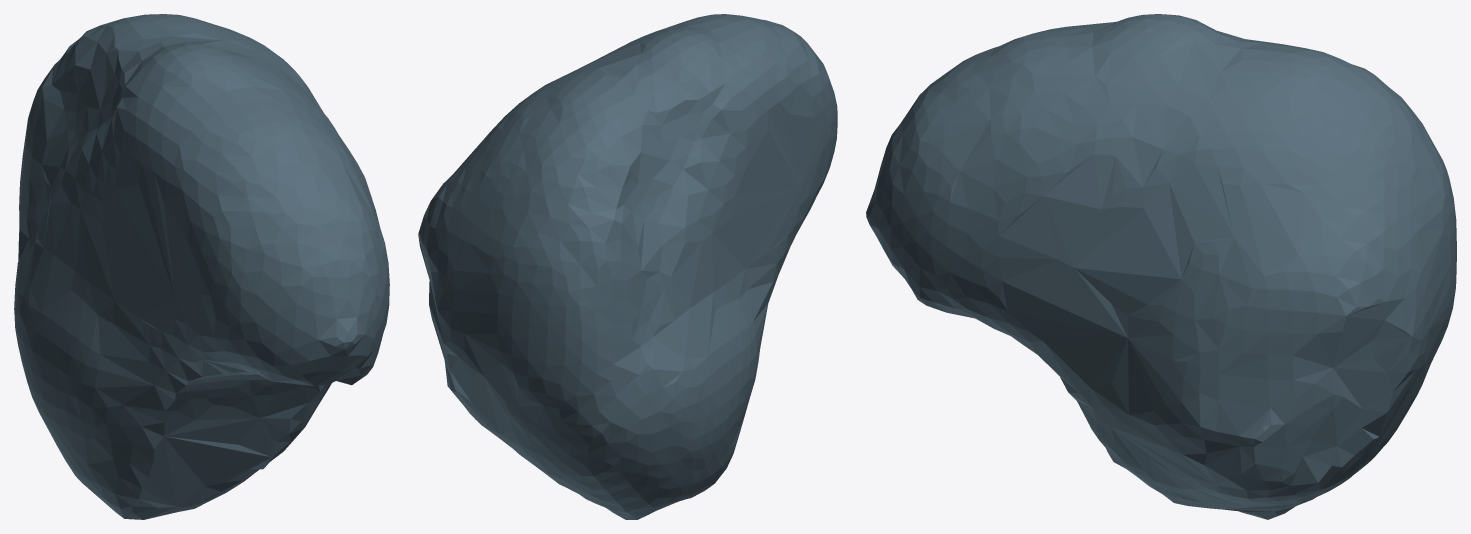
Rendered from Model_388_RH__Ventromedial_hypothalamic_nucleus_(VMH).obj.
3 views of the same model, side by side, from view 1: azimuth 30°, elevation 25°; view 2: azimuth 150°, elevation 25°; view 3: azimuth 270°, elevation 25° (orthographic). The views are drawn at different scales.
Size of the model in its own units: 1.45 by 2.17 by 2.35.
